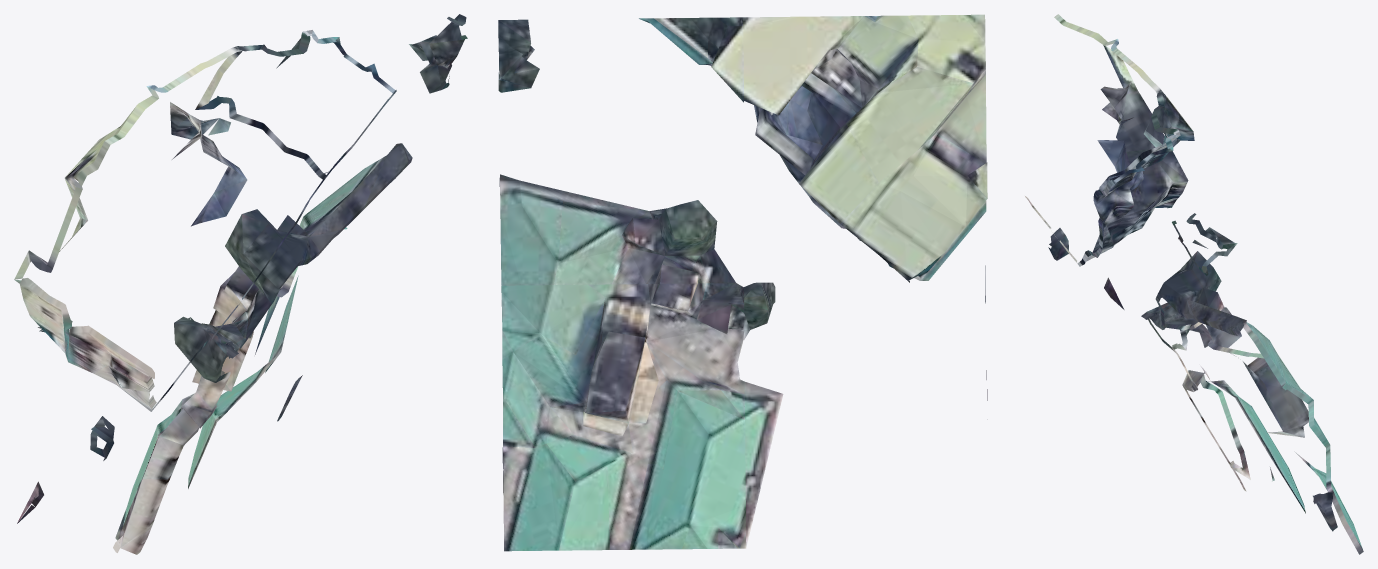
3 views of the same model, side by side, from view 1: azimuth 30°, elevation 25°; view 2: azimuth 150°, elevation 25°; view 3: azimuth 270°, elevation 25° (orthographic). The views are drawn at different scales.
Size of the model in its own units: 37.29 by 39.11 by 28.71.
Materials: 1 (1 with a texture image).
